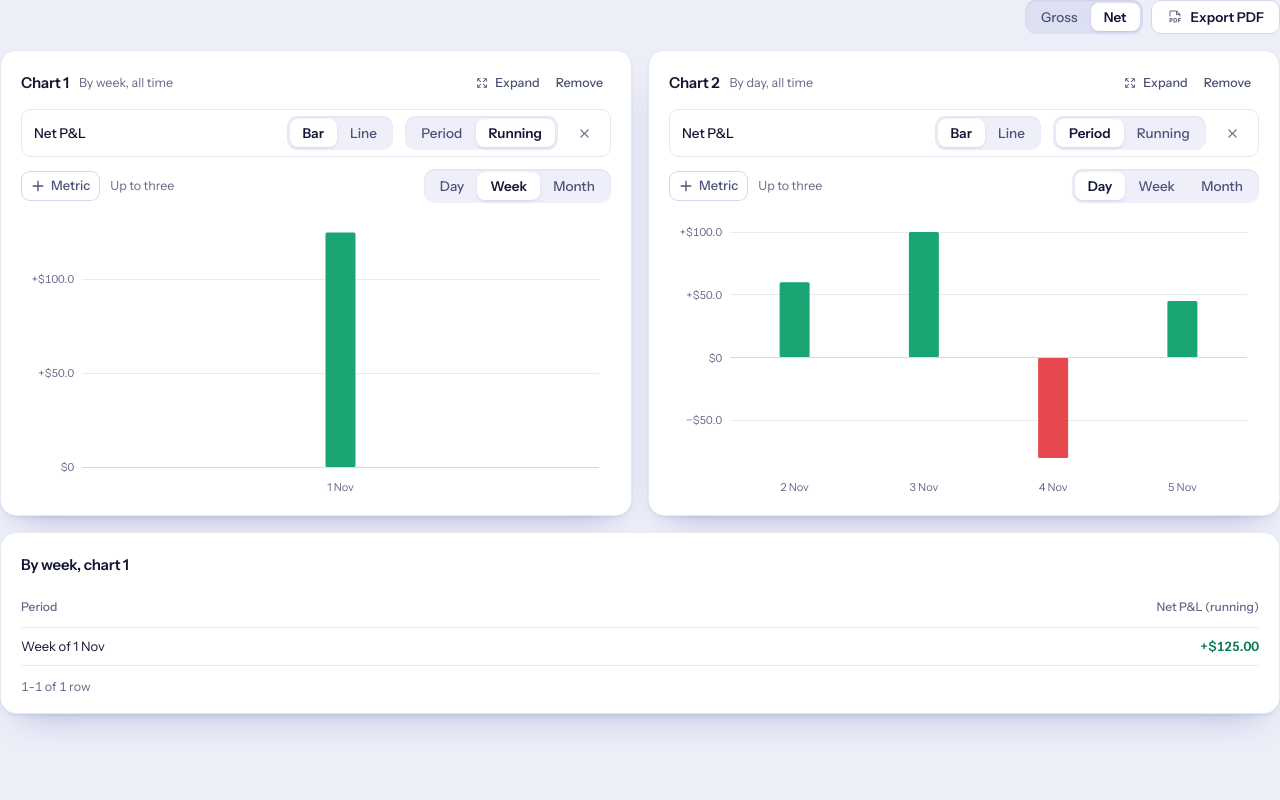
Test: Expand on slot 2 opens that chart, and Remove sits beside it in the header
Click the button with aria-label "Expand chart" at (1155, 83), box [1115,69,1196,97]
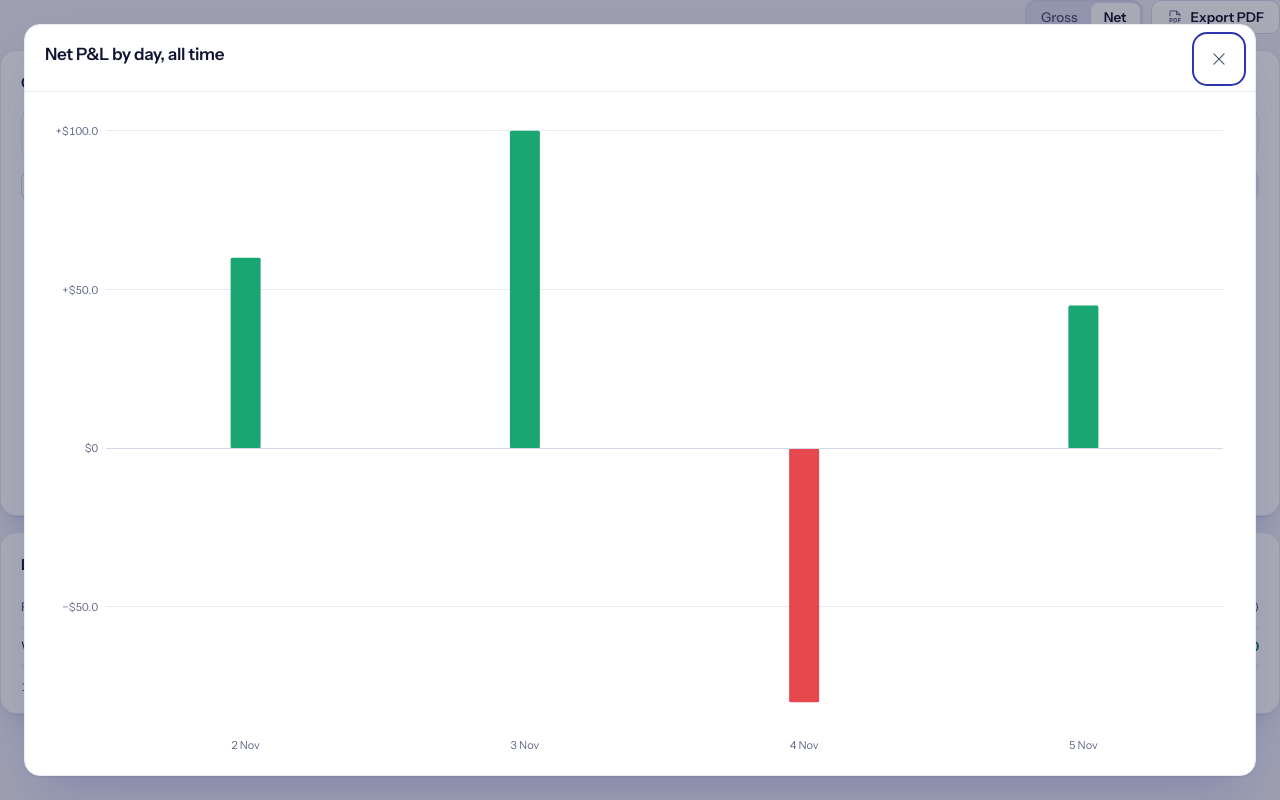
Result: the dialog shows "Net P&L by day" at [45,44,224,64]
